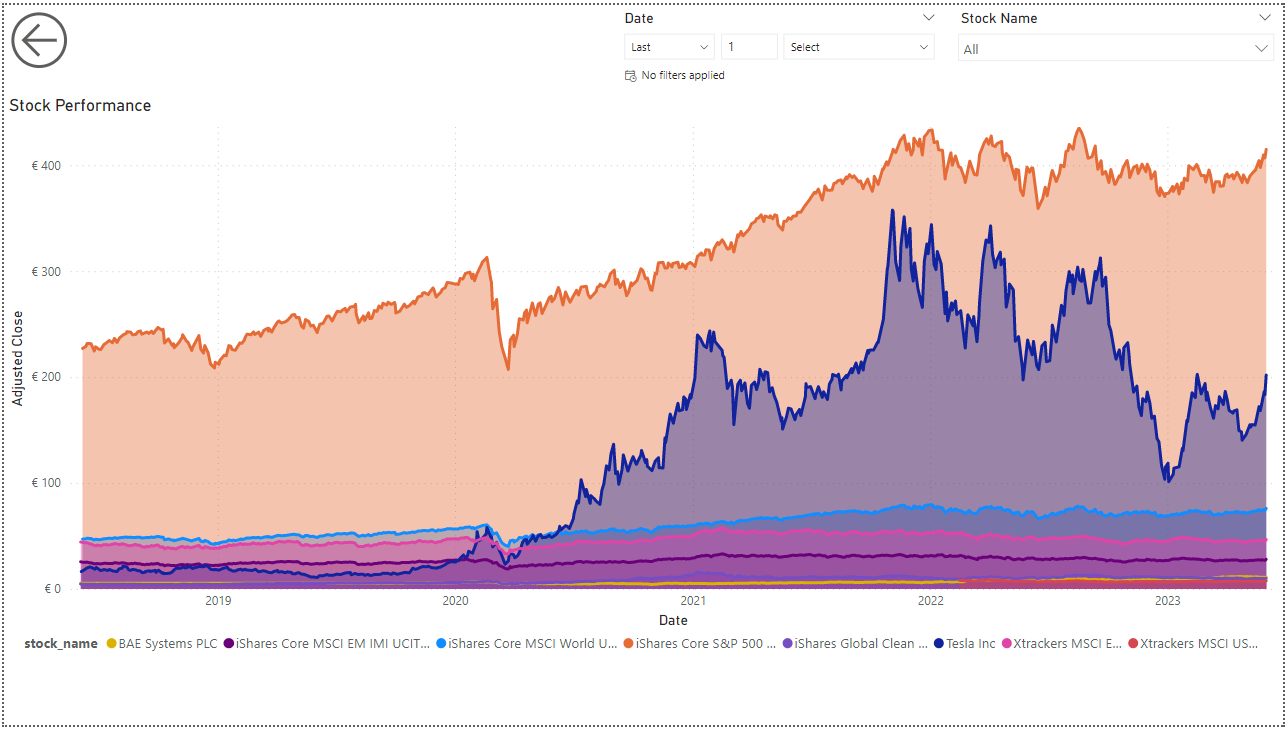

Layout of this report page (visuals, bound fields, positions):
{"tool":"powerbi","page":{"name":"Performance","canvas":[1280,720],"ordinal":1},"visuals":[{"type":"areaChart","title":"Stock Performance","fields":{"Series":["dimStockDetails.stock_name"],"Y":["Sum(historicalData.Adjusted Close)"],"Category":["Calendar.Date Hierarchy.Date"]},"box":[0,89.4,1279.9,567.1],"z":0},{"type":"slicer","fields":{"Values":["dimStockDetails.stock_name"]},"box":[943.6,0,336.3,89.4],"z":1000},{"type":"slicer","fields":{"Values":["Calendar.Date"]},"box":[607.3,0,336.3,89.4],"z":3000},{"type":"actionButton","box":[0,0,85,70.7],"z":4000}]}

Visuals, with their boxes in screenshot pixels (x1, y1, x2, y2), scaled from the page's 1280x720 canvas onto the 1287x730 screenshot:
"Stock Performance" areaChart: (x1=0, y1=91, x2=1286, y2=666)
slicer - dimStockDetails.stock_name: (x1=949, y1=0, x2=1286, y2=91)
slicer - Calendar.Date: (x1=611, y1=0, x2=949, y2=91)
actionButton: (x1=0, y1=0, x2=85, y2=72)
